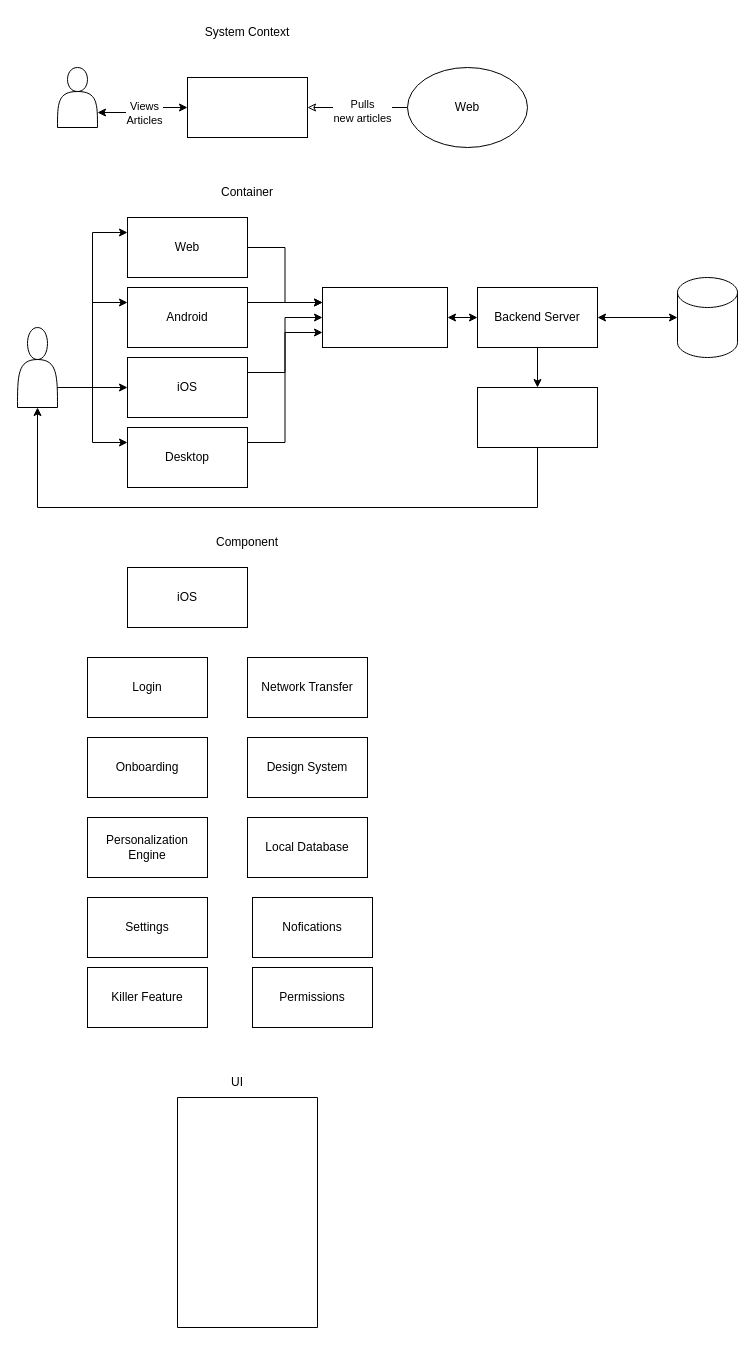
Image size: 755x1345. Some labels were removed from this diagram. Each missing label, with the centre of its shape:
Backend Endpoint: point (385, 317)
DB: point (707, 317)
News App System: point (247, 107)
Notification Server: point (537, 417)
